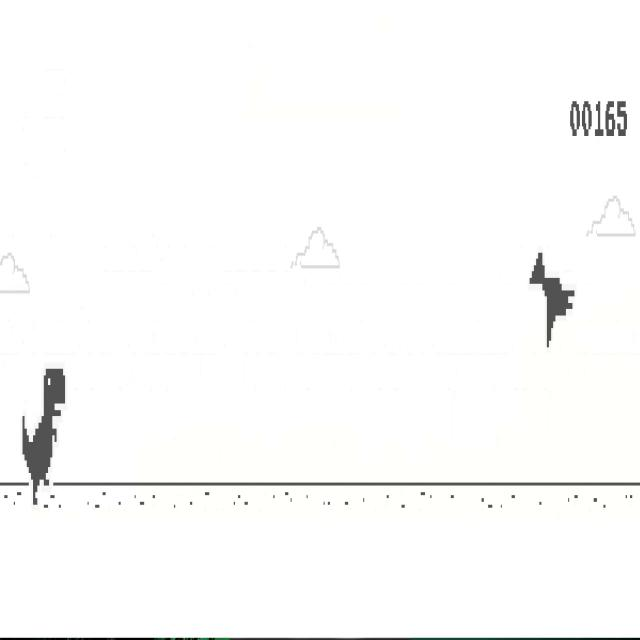dino: (21, 365, 67, 509)
ptero: (530, 250, 576, 350)
